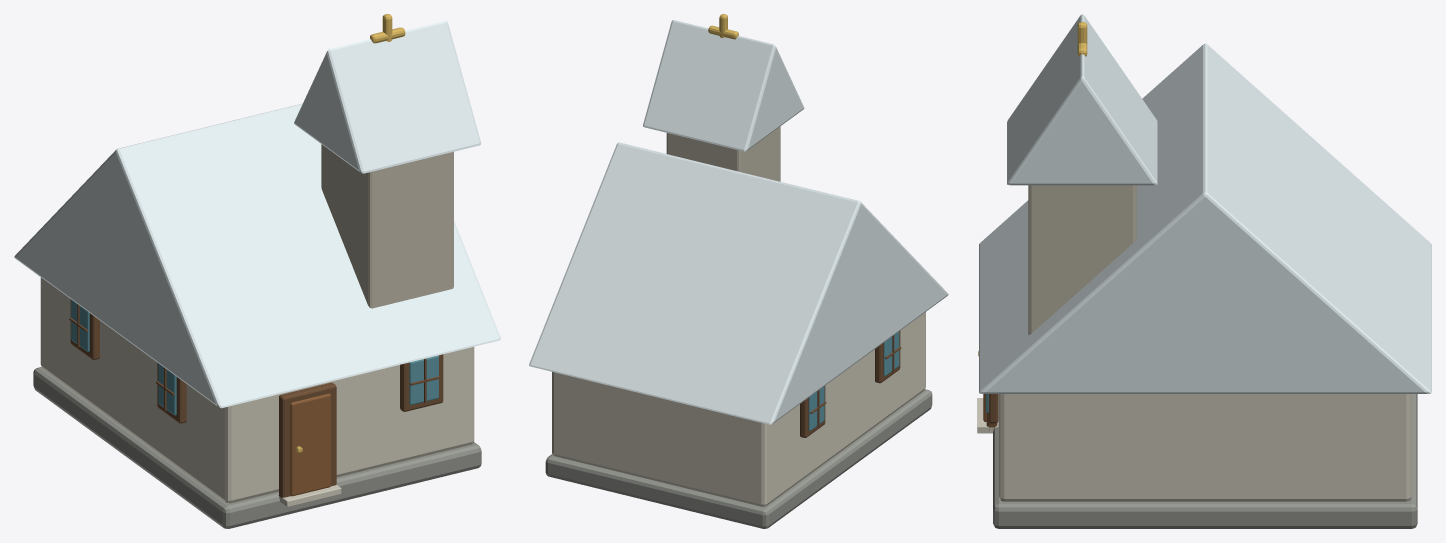
Rendered from snowy-chapel-0.glb.
3 renders of one model, left to right at view 1: azimuth 30°, elevation 25°; view 2: azimuth 150°, elevation 25°; view 3: azimuth 270°, elevation 25°, orthographic. The views are drawn at different scales.
Parts seen in each view (by area): view 1: Snow, Cut limestone, Warm civic stone, Foundation stone, Dark beams, Door oak, Blue glass, Warm brass; view 2: Snow, Cut limestone, Foundation stone, Warm civic stone, Dark beams, Blue glass; view 3: Snow, Cut limestone, Foundation stone, Warm civic stone.
Boxes of the visible parts, x1,y1,x2,y2 form: Snow: (14,21,500,408); Cut limestone: (40,277,474,507); Warm civic stone: (321,144,453,308); Foundation stone: (33,367,481,528); Dark beams: (69,299,443,497); Door oak: (290,393,330,496); Blue glass: (71,300,438,415); Warm brass: (296,14,405,452); Snow: (529,20,948,424); Cut limestone: (552,312,925,506); Foundation stone: (545,389,932,528); Warm civic stone: (666,126,780,181); Dark beams: (800,331,901,437); Blue glass: (808,331,899,430); Snow: (979,14,1431,393); Cut limestone: (977,394,1411,501); Foundation stone: (993,394,1417,528); Warm civic stone: (1028,185,1136,334).
Bounding box in the file's own units: 3.64 × 5.38 × 4.62.
